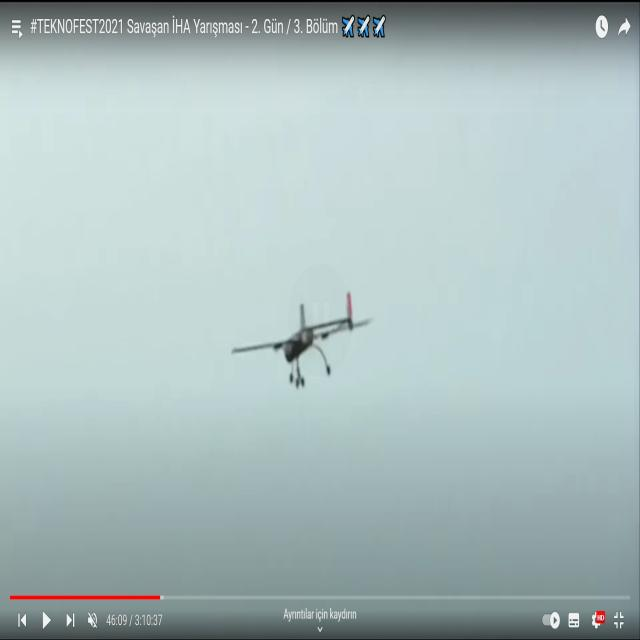iha: (231, 322, 374, 354)
